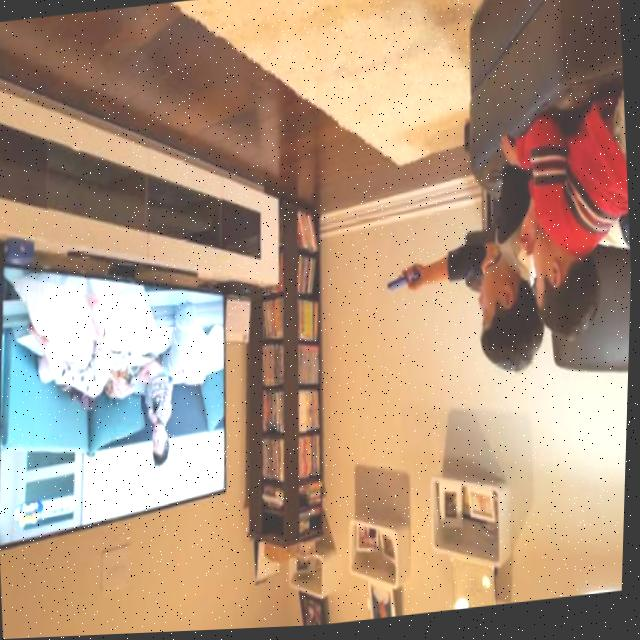tv-person: (0, 91, 637, 567)
